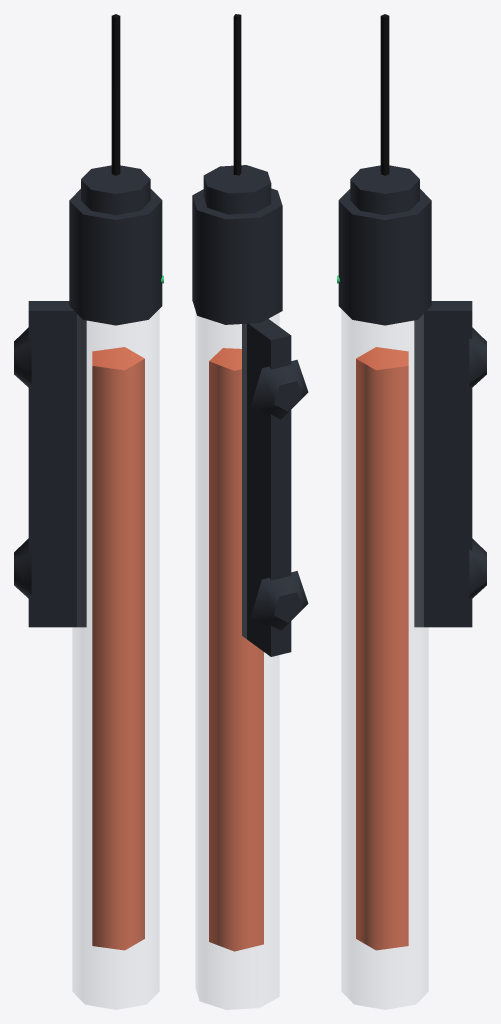
Rendered from water-heater-aquarium-300w.glb.
The picture shows the model from 3 angles, left to right: view 1: azimuth 90°, elevation 25°; view 2: azimuth 210°, elevation 25°; view 3: azimuth 270°, elevation 25°; orthographic projection.
Visible parts, largest first — view 1: heater_tube, heat_element, heater_clip, heater_cap, heater_dial, heater_cable; view 2: heater_tube, heat_element, heater_clip, heater_cap, heater_dial, heater_cable; view 3: heater_tube, heat_element, heater_clip, heater_cap, heater_dial, heater_cable.
Boxes of the visible parts, x1=… form: heater_tube: x1=72, y1=310, x2=159, y2=1009; heat_element: x1=92, y1=347, x2=144, y2=950; heater_clip: x1=14, y1=301, x2=86, y2=627; heater_cap: x1=69, y1=189, x2=162, y2=325; heater_dial: x1=81, y1=165, x2=150, y2=214; heater_cable: x1=111, y1=14, x2=120, y2=175; heater_tube: x1=195, y1=312, x2=279, y2=1009; heat_element: x1=209, y1=348, x2=263, y2=951; heater_clip: x1=242, y1=319, x2=308, y2=656; heater_cap: x1=192, y1=188, x2=282, y2=324; heater_dial: x1=203, y1=165, x2=271, y2=214; heater_cable: x1=233, y1=14, x2=241, y2=175; heater_tube: x1=341, y1=310, x2=428, y2=1009; heat_element: x1=356, y1=347, x2=408, y2=950; heater_clip: x1=414, y1=301, x2=486, y2=627; heater_cap: x1=338, y1=189, x2=431, y2=325; heater_dial: x1=350, y1=165, x2=419, y2=214; heater_cable: x1=380, y1=14, x2=389, y2=175.
Size of the model in its own units: 0.032 by 0.37 by 0.0515.
